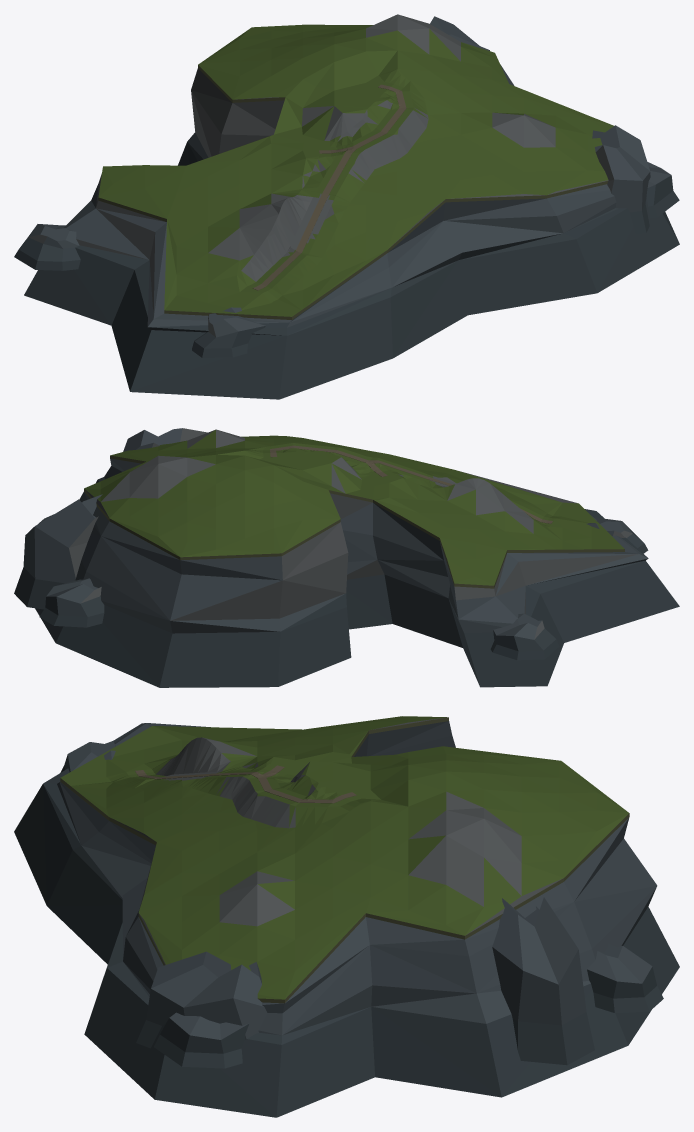
The model's file is island_b.glb.
The picture shows the model from 3 angles, top to bottom: view 1: azimuth 30°, elevation 25°; view 2: azimuth 150°, elevation 25°; view 3: azimuth 270°, elevation 25°; orthographic projection. The views are drawn at different scales.
Visible parts, largest first — view 1: island_b_Coast short olive grass, island_b_Coast blue grey bedrock, island_b_Coast weathered stone footpath; view 2: island_b_Coast blue grey bedrock, island_b_Coast short olive grass, island_b_Coast weathered stone footpath; view 3: island_b_Coast blue grey bedrock, island_b_Coast short olive grass, island_b_Coast weathered stone footpath.
Boxes of the visible parts, x1=… form: island_b_Coast short olive grass: x1=98, y1=14, x2=613, y2=319; island_b_Coast blue grey bedrock: x1=14, y1=16, x2=679, y2=399; island_b_Coast weathered stone footpath: x1=253, y1=84, x2=406, y2=290; island_b_Coast blue grey bedrock: x1=14, y1=428, x2=679, y2=687; island_b_Coast short olive grass: x1=84, y1=429, x2=624, y2=588; island_b_Coast weathered stone footpath: x1=270, y1=445, x2=552, y2=523; island_b_Coast blue grey bedrock: x1=14, y1=721, x2=679, y2=1117; island_b_Coast short olive grass: x1=60, y1=716, x2=629, y2=1003; island_b_Coast weathered stone footpath: x1=135, y1=765, x2=356, y2=803.
Size of the model in its own units: 127 by 33.89 by 103.
